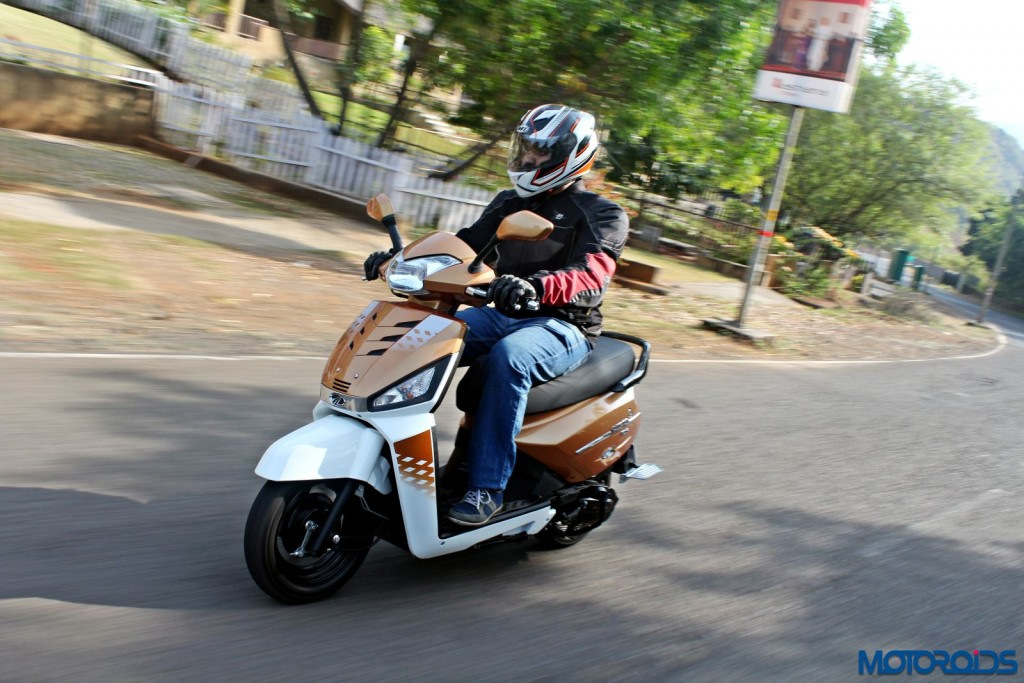helmet: (502, 101, 599, 201)
